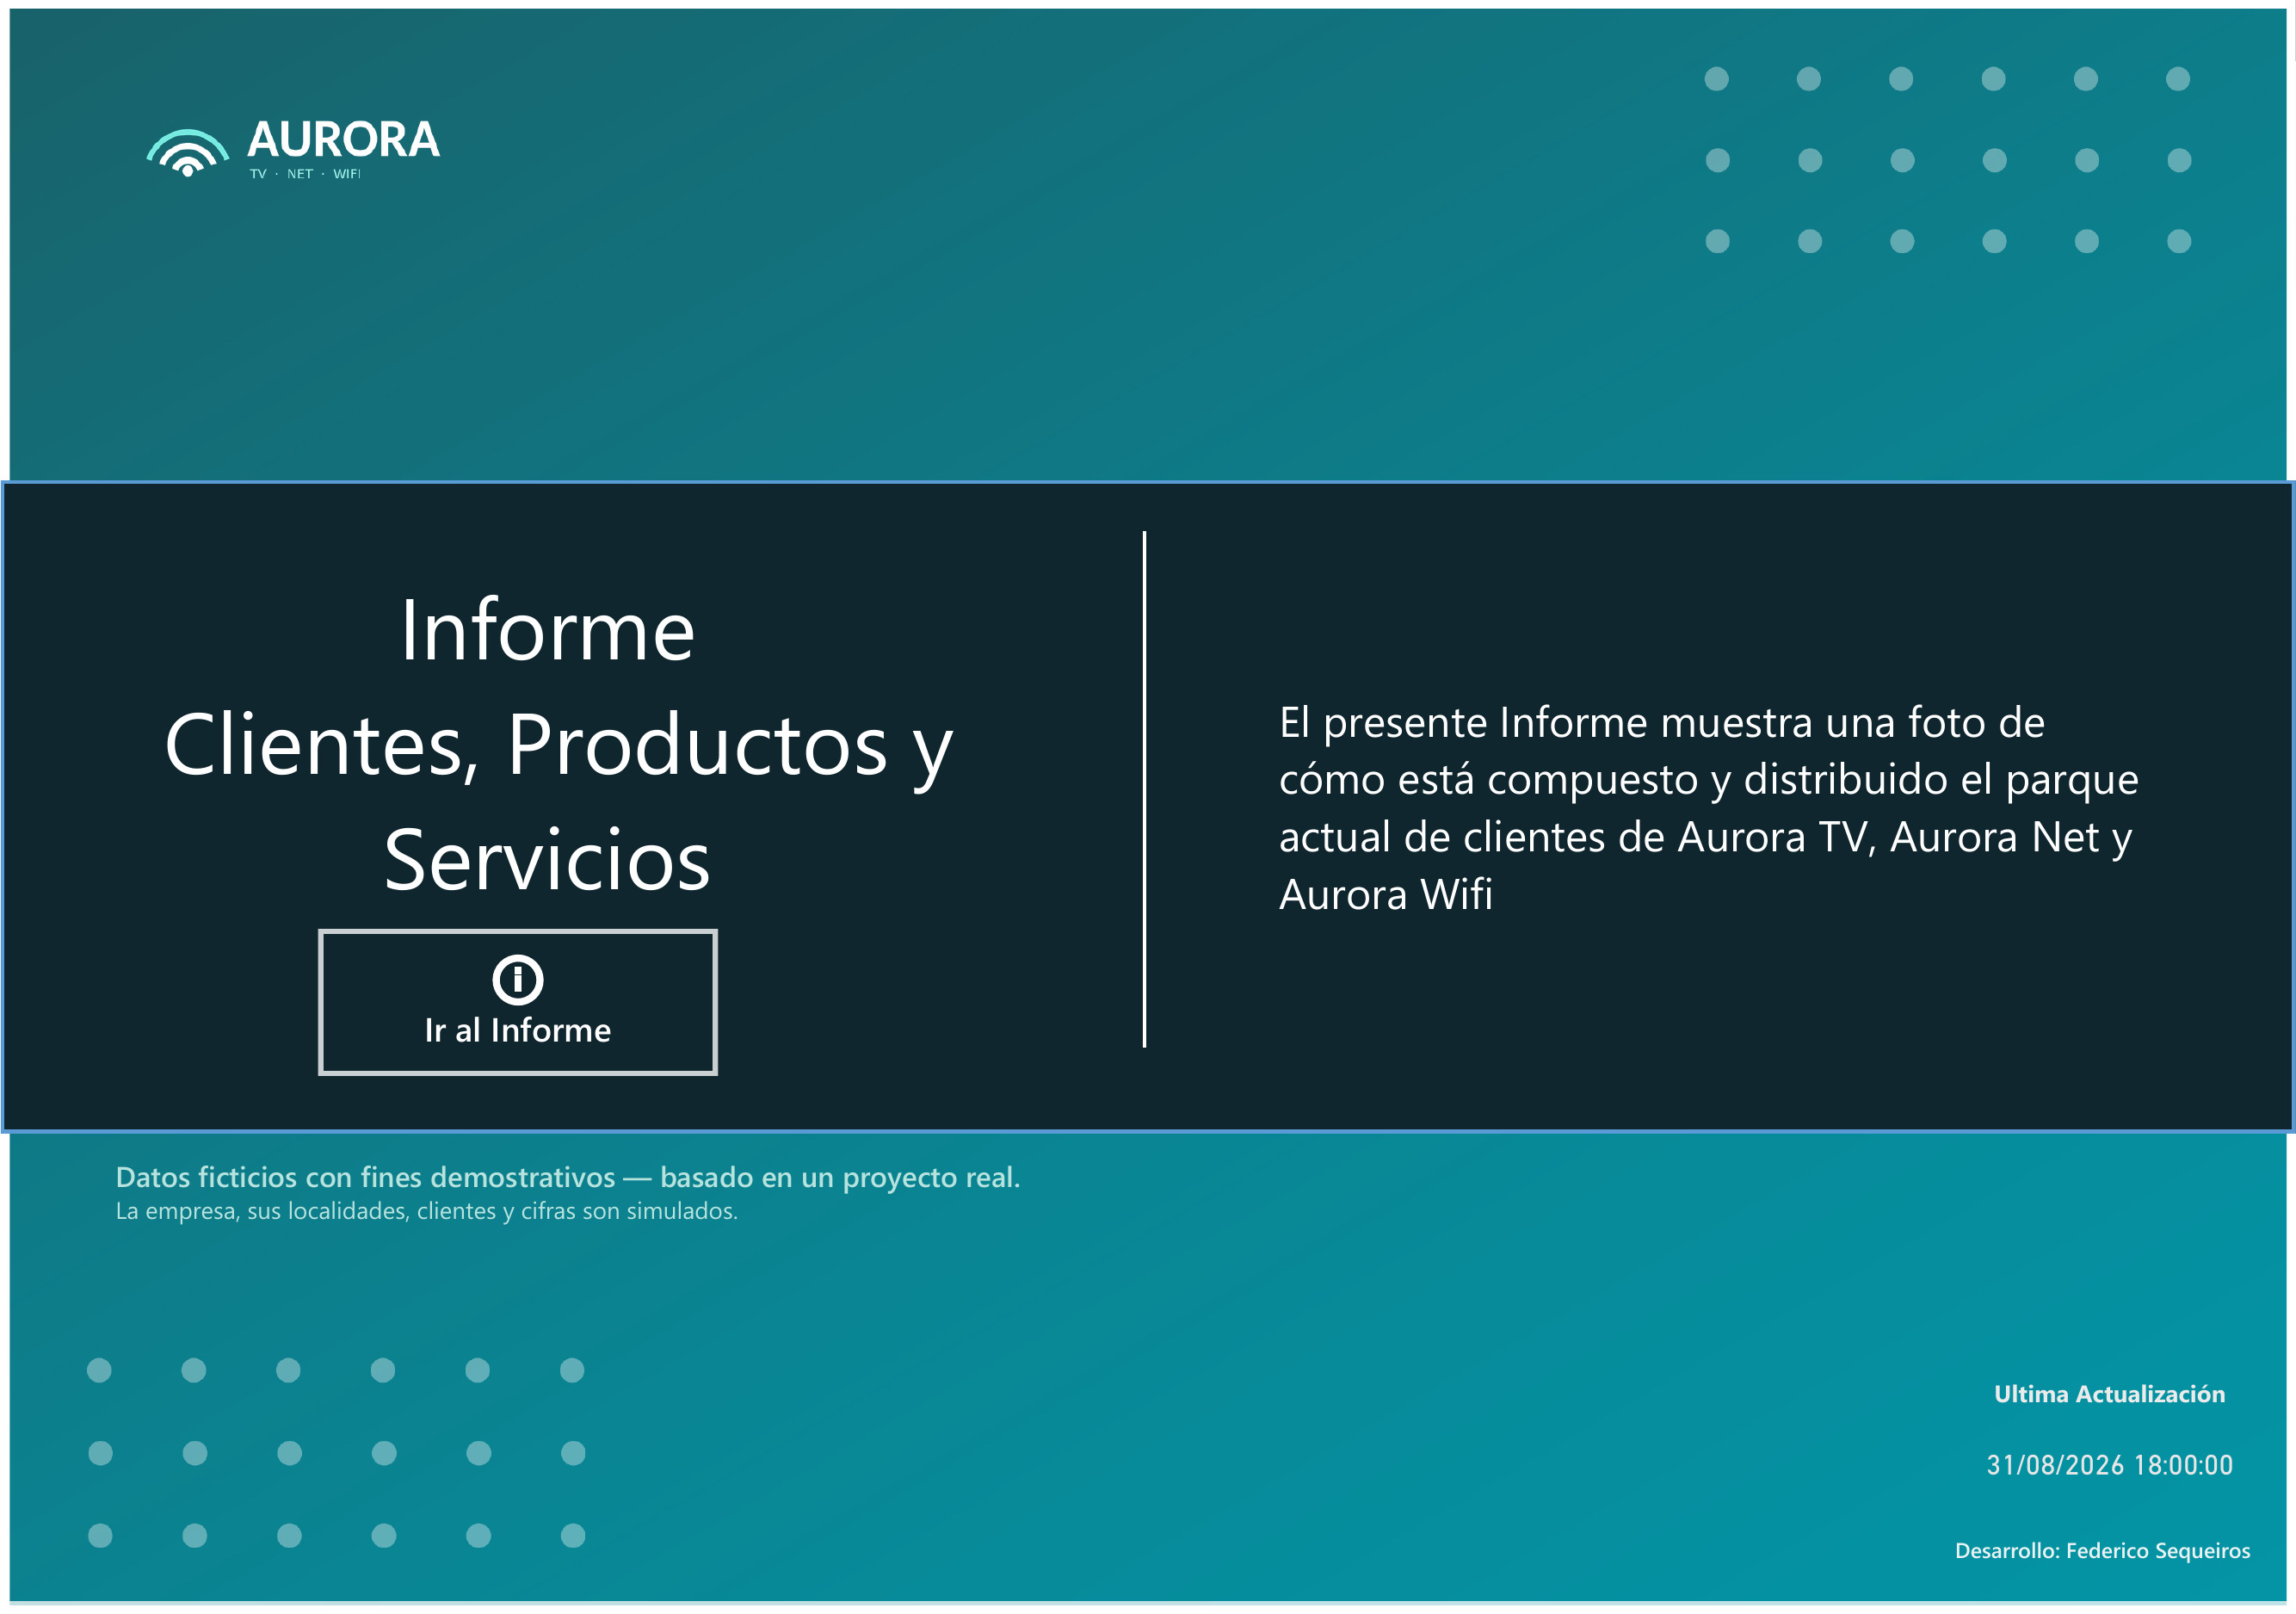

The dashboard page shown, as its layout file describes it:
{"tool":"powerbi","page":{"name":"Presentacion","canvas":[1280,900],"ordinal":0},"visuals":[{"type":"image","title":"Fondo degradado","box":[0,0,1280.2,900],"z":0},{"type":"shape","title":"Fondo negro","box":[0,268.2,1280.2,363.5],"z":1000},{"type":"shape","title":"Linea","box":[488,295.9,299.6,287.8],"z":2000},{"type":"actionButton","title":"Reporte","box":[176.6,517.9,223,82.5],"z":3000},{"type":"card","title":"Ultima Actualización","fields":{"Values":["Min(FechaAct.Fecha)"]},"box":[1085.1,768.1,182.9,83.1],"z":4000},{"type":"image","box":[72.7,51.1,247.6,60.9],"z":5000},{"type":"image","box":[43.2,720.4,288.2,179.6],"z":6000},{"type":"image","box":[945,0,281.9,177.8],"z":7000},{"type":"textbox","box":[58.7,311.5,505.4,206.2],"z":8000},{"type":"textbox","box":[708.1,380.1,493.8,146.8],"z":9000},{"type":"textbox","box":[1085.1,851.2,195.1,34.4],"z":10000},{"type":"textbox","box":[59,640,560,70],"z":11000}]}

Visuals, with their boxes in screenshot pixels (x1, y1, x2, y2), scaled from the page's 1280x900 canvas onto the 2296x1614 screenshot:
"Fondo degradado" image: BBox(0, 0, 2295, 1613)
"Fondo negro" shape: BBox(0, 481, 2295, 1133)
"Linea" shape: BBox(875, 530, 1413, 1047)
"Reporte" actionButton: BBox(317, 929, 717, 1077)
"Ultima Actualización" card: BBox(1947, 1377, 2274, 1526)
image: BBox(131, 91, 575, 201)
image: BBox(77, 1292, 595, 1613)
image: BBox(1695, 0, 2200, 318)
textbox: BBox(105, 559, 1012, 929)
textbox: BBox(1270, 682, 2156, 945)
textbox: BBox(1947, 1526, 2295, 1588)
textbox: BBox(106, 1147, 1110, 1273)
